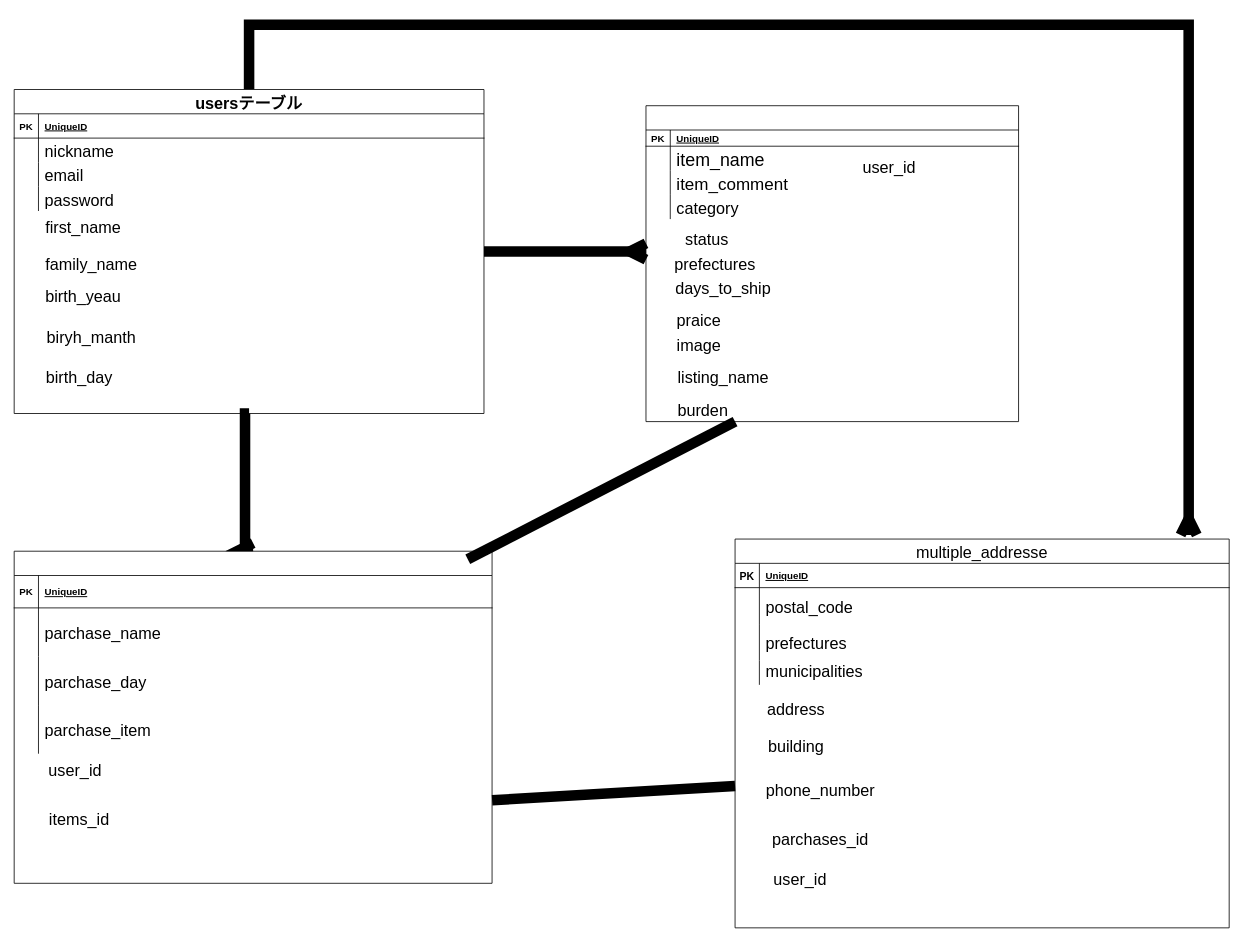
The diagram is 1243 pixels wide and 942 high, and some of its shapes have lost their labels. Here are the shapes that lost their labels. From the top down, the box of each, then its label:
(645, 105, 1019, 422): itemsテーブル
(13, 550, 492, 883): parchasesテーブル
